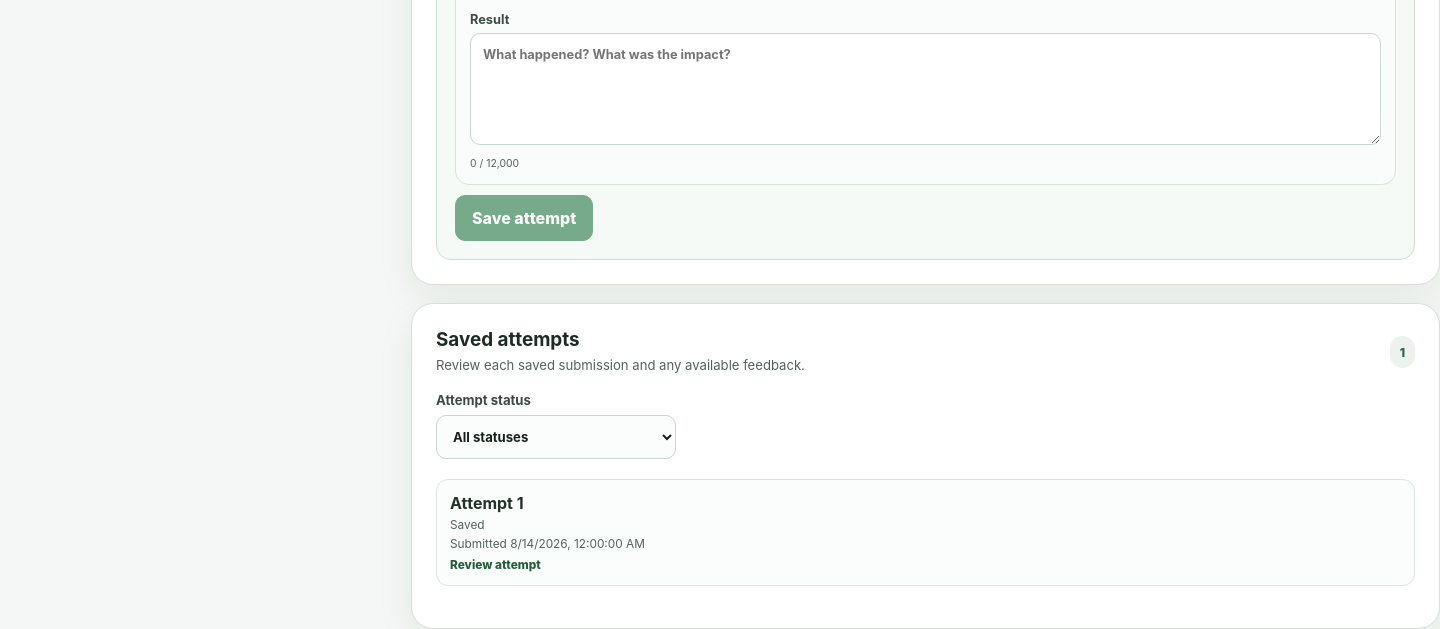
Test: InterviewSessionWorkspace structured answers › keeps historical plain-text saved answers unchanged
(page scrolled)
What coordinates should you click on to do the following:
click the button with aria-label "Review attempt 1"
I would click on:
 (483, 503)
Its box is [436,479,1415,586].
(page scrolled)
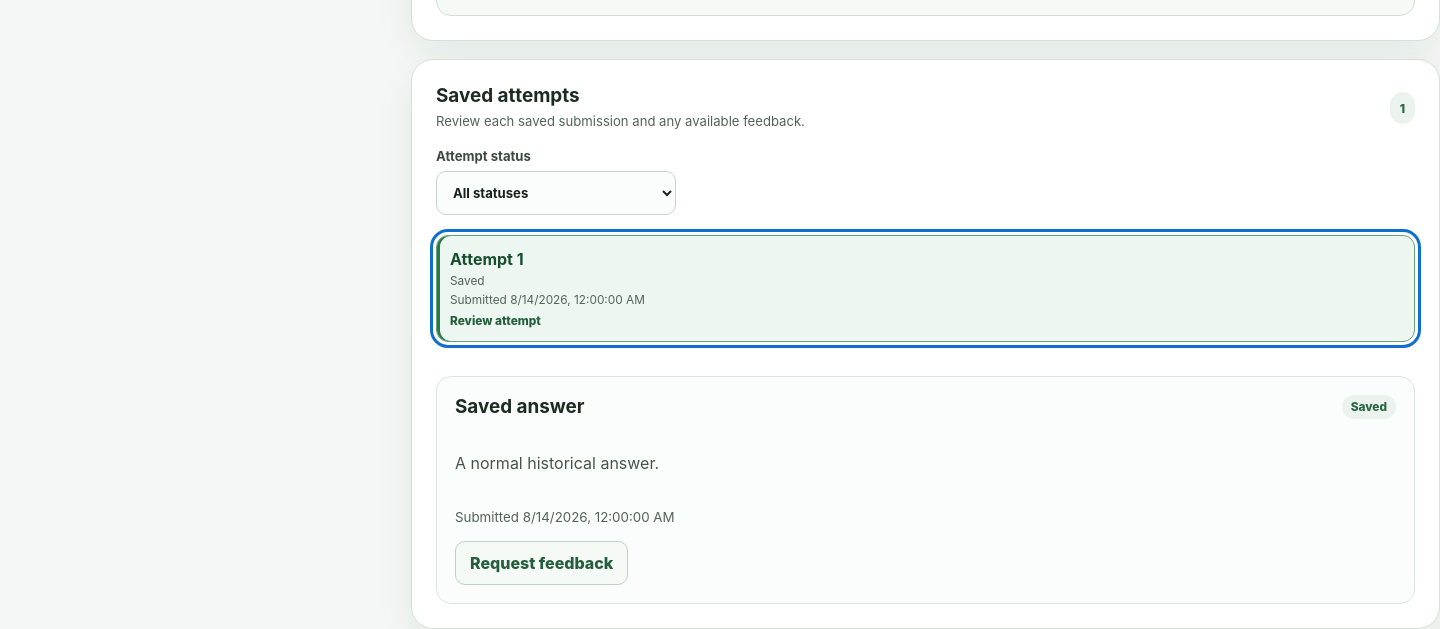
Expected: the text "A normal historical answer." is shown, [455,453,659,473]
